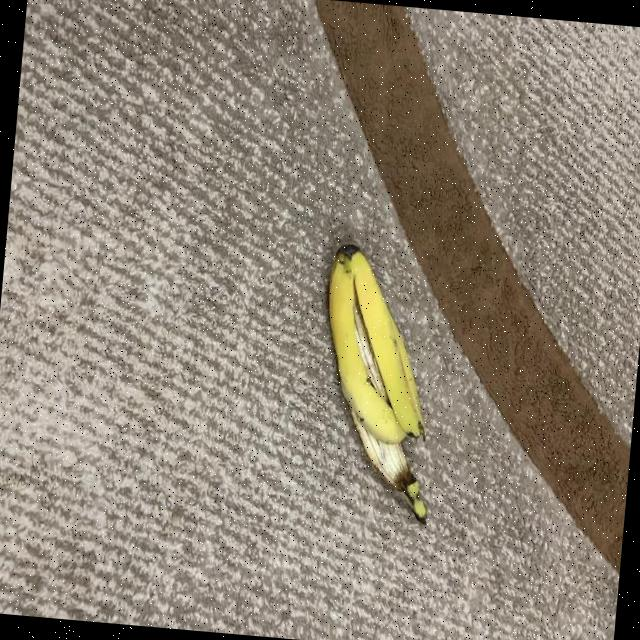banana-peel: (306, 240, 451, 524)
